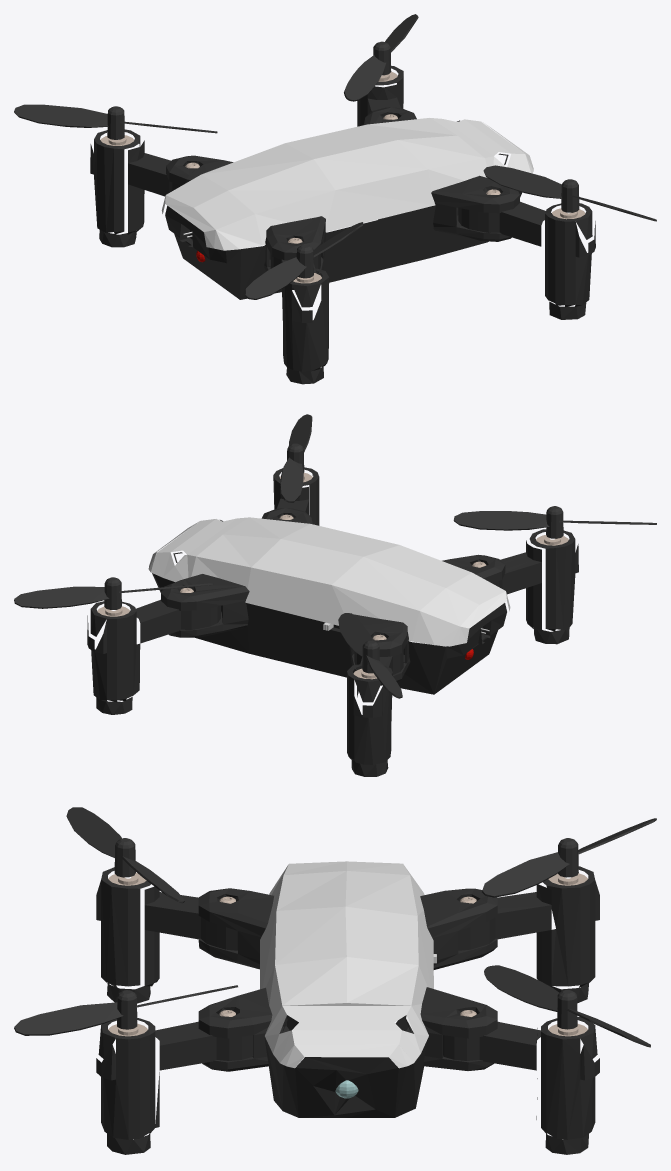
File: drone_reduced.gltf
The picture shows the model from 3 angles, top to bottom: view 1: azimuth 30°, elevation 25°; view 2: azimuth 150°, elevation 25°; view 3: azimuth 270°, elevation 25°; orthographic projection. The views are drawn at different scales.
Visible parts, largest first — view 1: Object_21, Object_6, Object_20, Object_4, Object_14, Object_19, Object_2, Object_9, Object_11, Object_17, Object_13; view 2: Object_21, Object_6, Object_20, Object_4, Object_3, Object_10, Object_15, Object_19, Object_11, Object_14, Object_18, Object_1 (+1 smaller); view 3: Object_6, Object_21, Object_4, Object_20, Object_18, Object_15, Object_9, Object_2, Object_11, Object_8, Object_17, Object_1 (+3 smaller).
Part boxes in pixels (x1,y1,x2,y2): Object_21: (161,118,533,250); Object_6: (90,65,595,384); Object_20: (165,120,522,299); Object_4: (166,107,519,289); Object_14: (14,104,108,127); Object_19: (483,165,561,198); Object_2: (245,257,306,299); Object_9: (344,55,385,101); Object_11: (100,71,585,283); Object_17: (561,179,579,212); Object_13: (107,106,124,139); Object_21: (148,517,510,646); Object_6: (87,467,578,776); Object_20: (152,520,506,694); Object_4: (161,508,505,685); Object_3: (453,511,549,530); Object_10: (14,586,109,608); Object_15: (338,613,372,656); Object_19: (280,457,303,502); Object_11: (97,472,568,679); Object_14: (365,655,402,698); Object_18: (289,414,312,452); Object_1: (546,506,563,538); Object_6: (96,866,599,1154); Object_21: (260,861,433,1068); Object_4: (198,888,497,1071); Object_20: (264,1018,427,1117); Object_18: (14,1002,123,1035); Object_15: (482,852,569,897); Object_9: (484,965,558,1011); Object_2: (66,807,121,857); Object_11: (108,872,587,1036); Object_8: (557,990,577,1029); Object_17: (117,990,137,1029); Object_1: (114,838,135,877).
Size of the model in its own units: 7.75 by 2.4 by 8.85.
